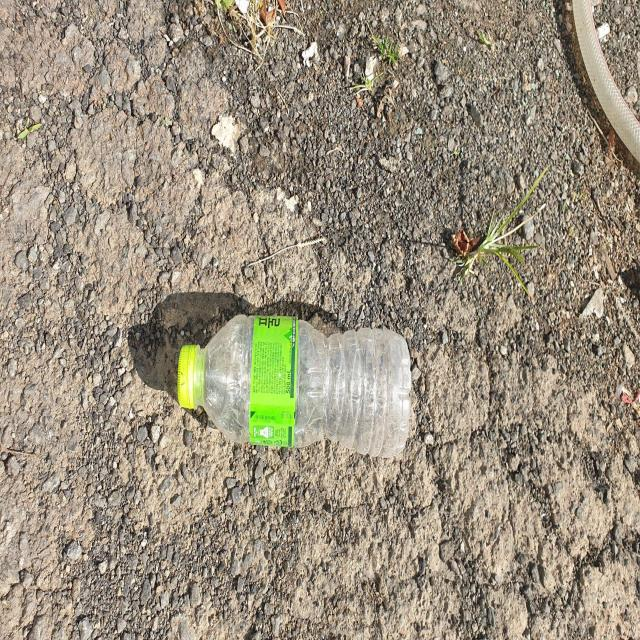plastic: (177, 314, 412, 457)
